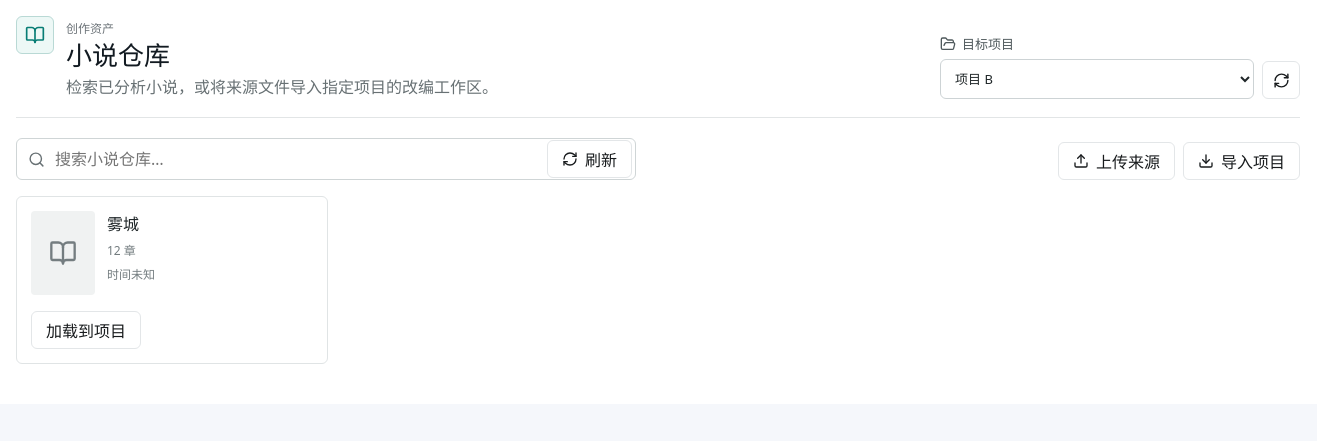
knowledge pages › loads a novel into the independently selected project
Select "项目 B" in the dropdown named "目标项目" at (1097, 79), box [940,59,1254,99]
Click the button "加载到项目" at (86, 330), box [31,311,141,349]
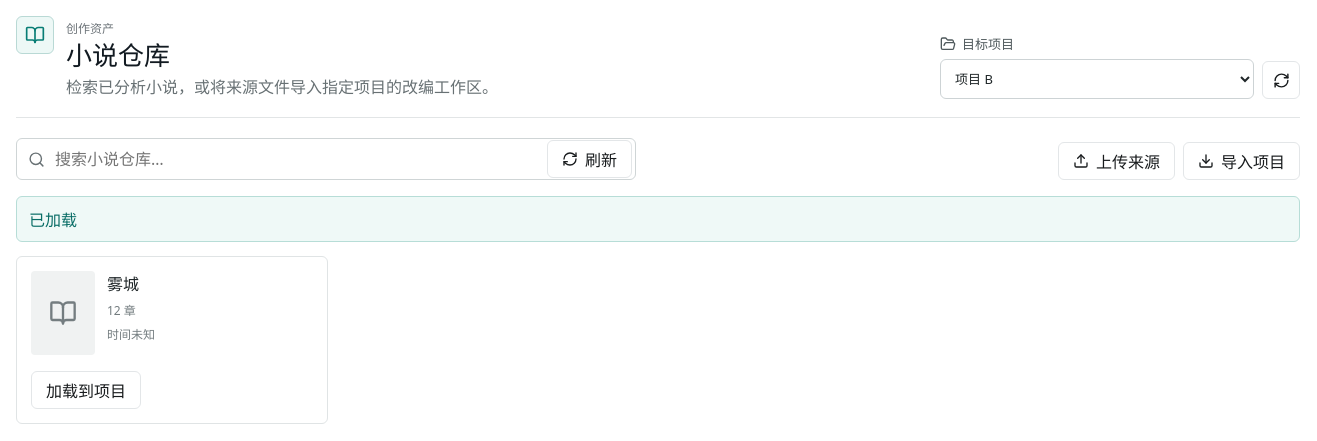
Expected: the text "已加载" is shown, [16,196,1300,242]
